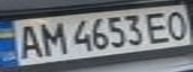3: (121, 11, 148, 47)
4: (66, 16, 93, 53)
5: (106, 14, 130, 50)
6: (87, 15, 112, 51)
A: (9, 21, 45, 60)
E: (142, 9, 175, 44)
M: (33, 19, 66, 55)
O: (160, 8, 193, 41)
